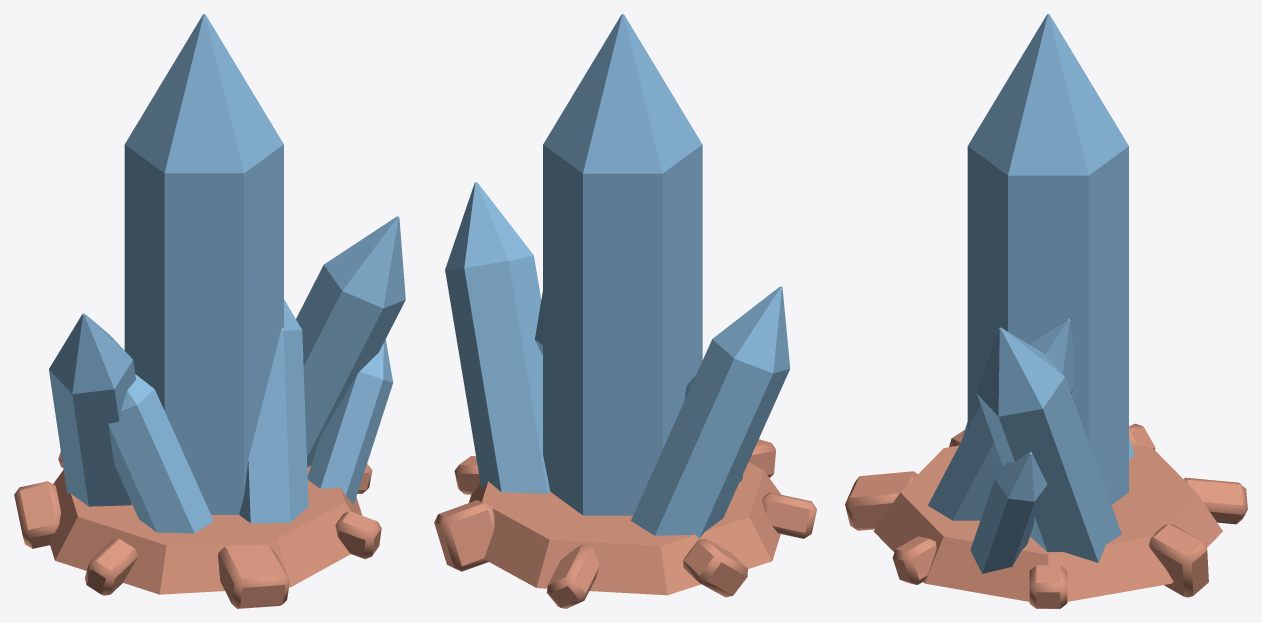
The model's file is EsquirlaGrieta.fbx.
The picture shows the model from 3 angles, left to right: view 1: azimuth 30°, elevation 25°; view 2: azimuth 150°, elevation 25°; view 3: azimuth 270°, elevation 25°; orthographic projection.
Visible parts, largest first — view 1: EsquirlaGrieta_Base_Cristal, EsquirlaGrieta_Base_Cuerpo; view 2: EsquirlaGrieta_Base_Cristal, EsquirlaGrieta_Base_Cuerpo; view 3: EsquirlaGrieta_Base_Cristal, EsquirlaGrieta_Base_Cuerpo.
Boxes of the visible parts, x1,y1,x2,y2 form: EsquirlaGrieta_Base_Cristal: [49, 14, 405, 533]; EsquirlaGrieta_Base_Cuerpo: [14, 451, 381, 608]; EsquirlaGrieta_Base_Cristal: [445, 14, 790, 538]; EsquirlaGrieta_Base_Cuerpo: [434, 439, 816, 608]; EsquirlaGrieta_Base_Cristal: [928, 14, 1134, 573]; EsquirlaGrieta_Base_Cuerpo: [845, 423, 1247, 608].
Bounding box in the file's own units: 1453 × 2192 × 1498.
